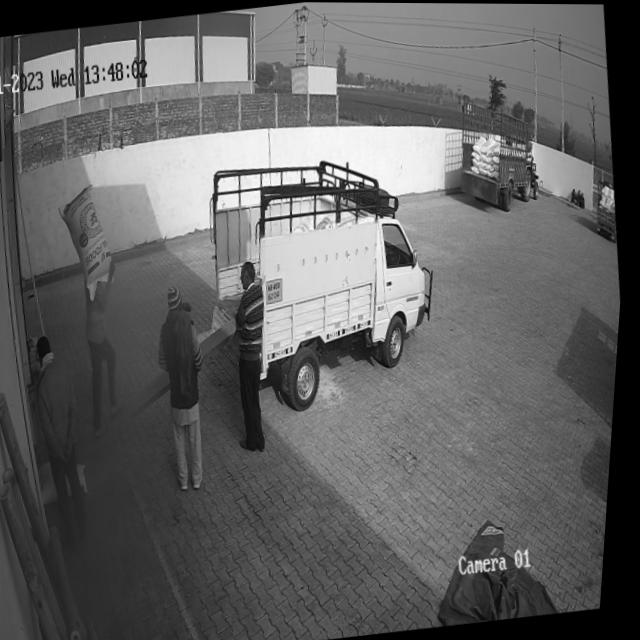sack: (53, 183, 124, 301)
